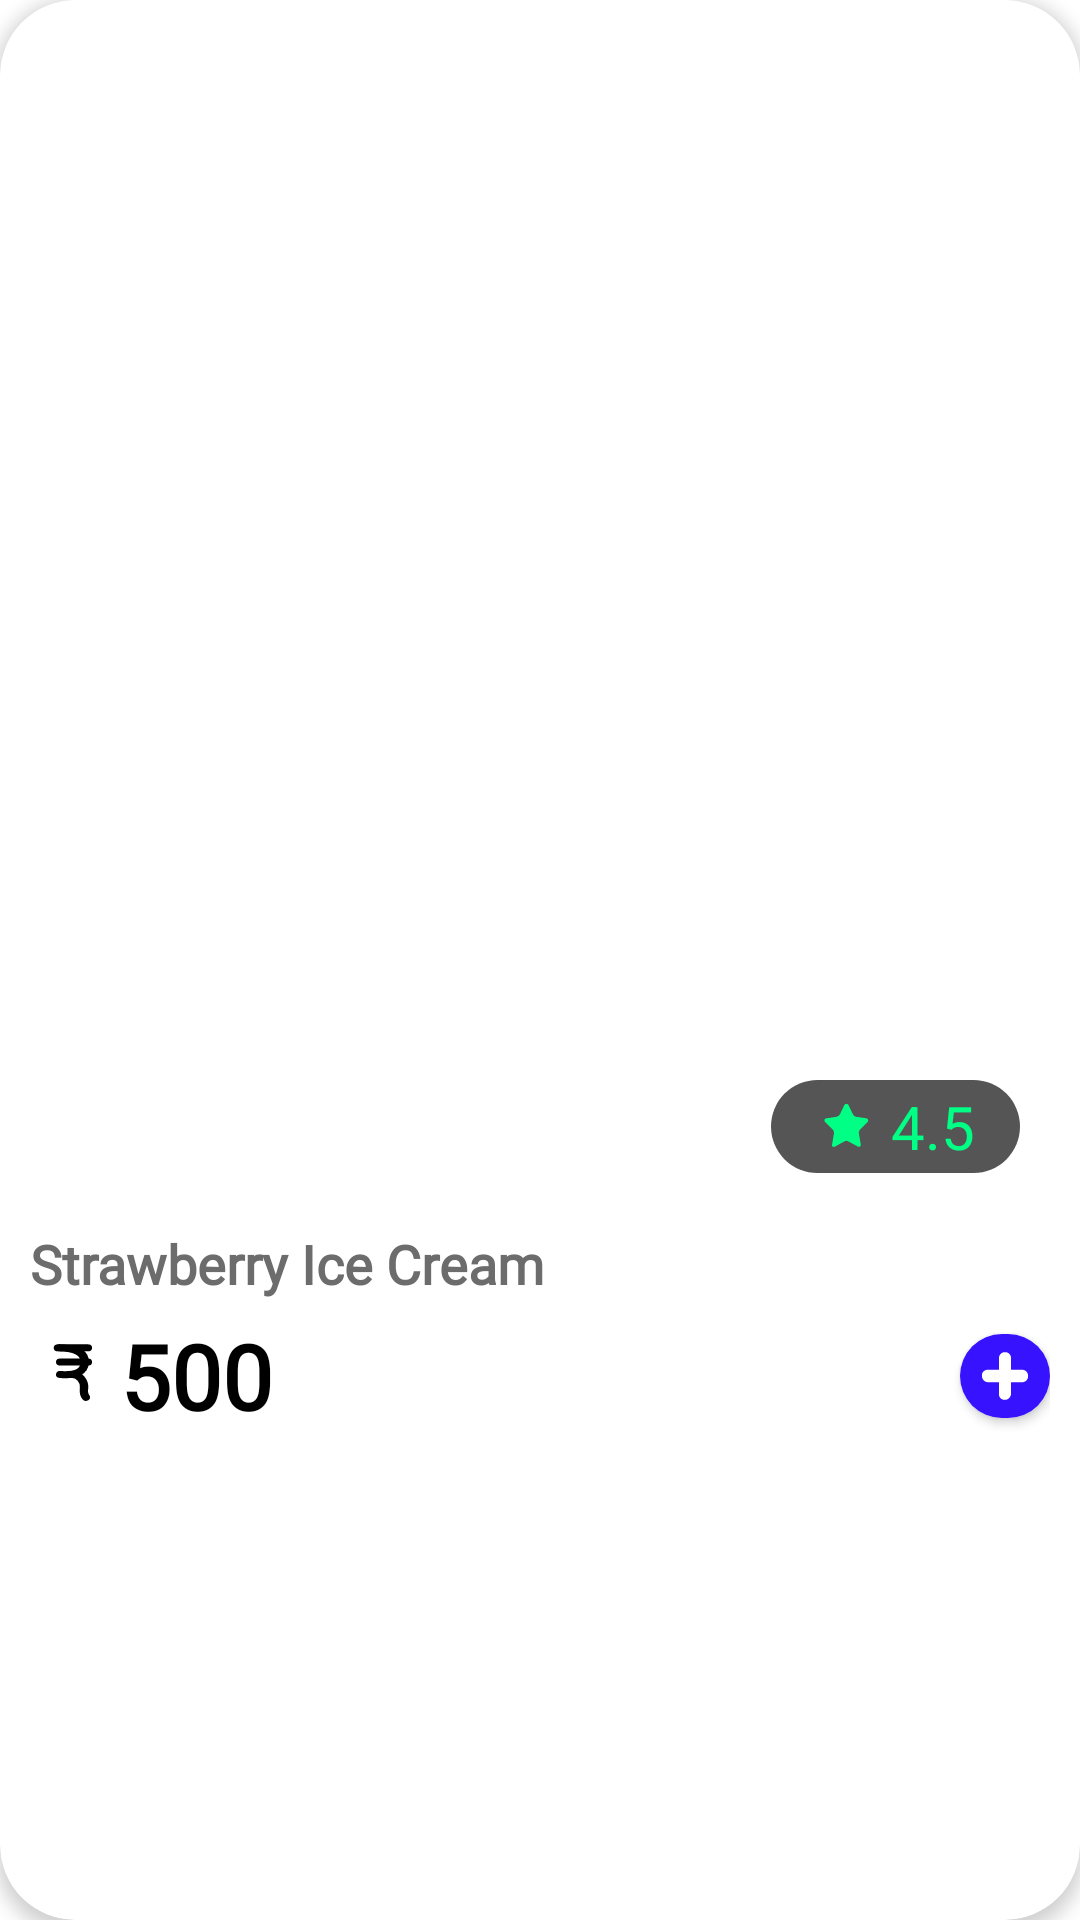

Icon bounding boxes for this 1080w x 1920h phone screenshot, format rect(x1, y1, x2, y2):
add: rect(960, 1334, 1050, 1422)
